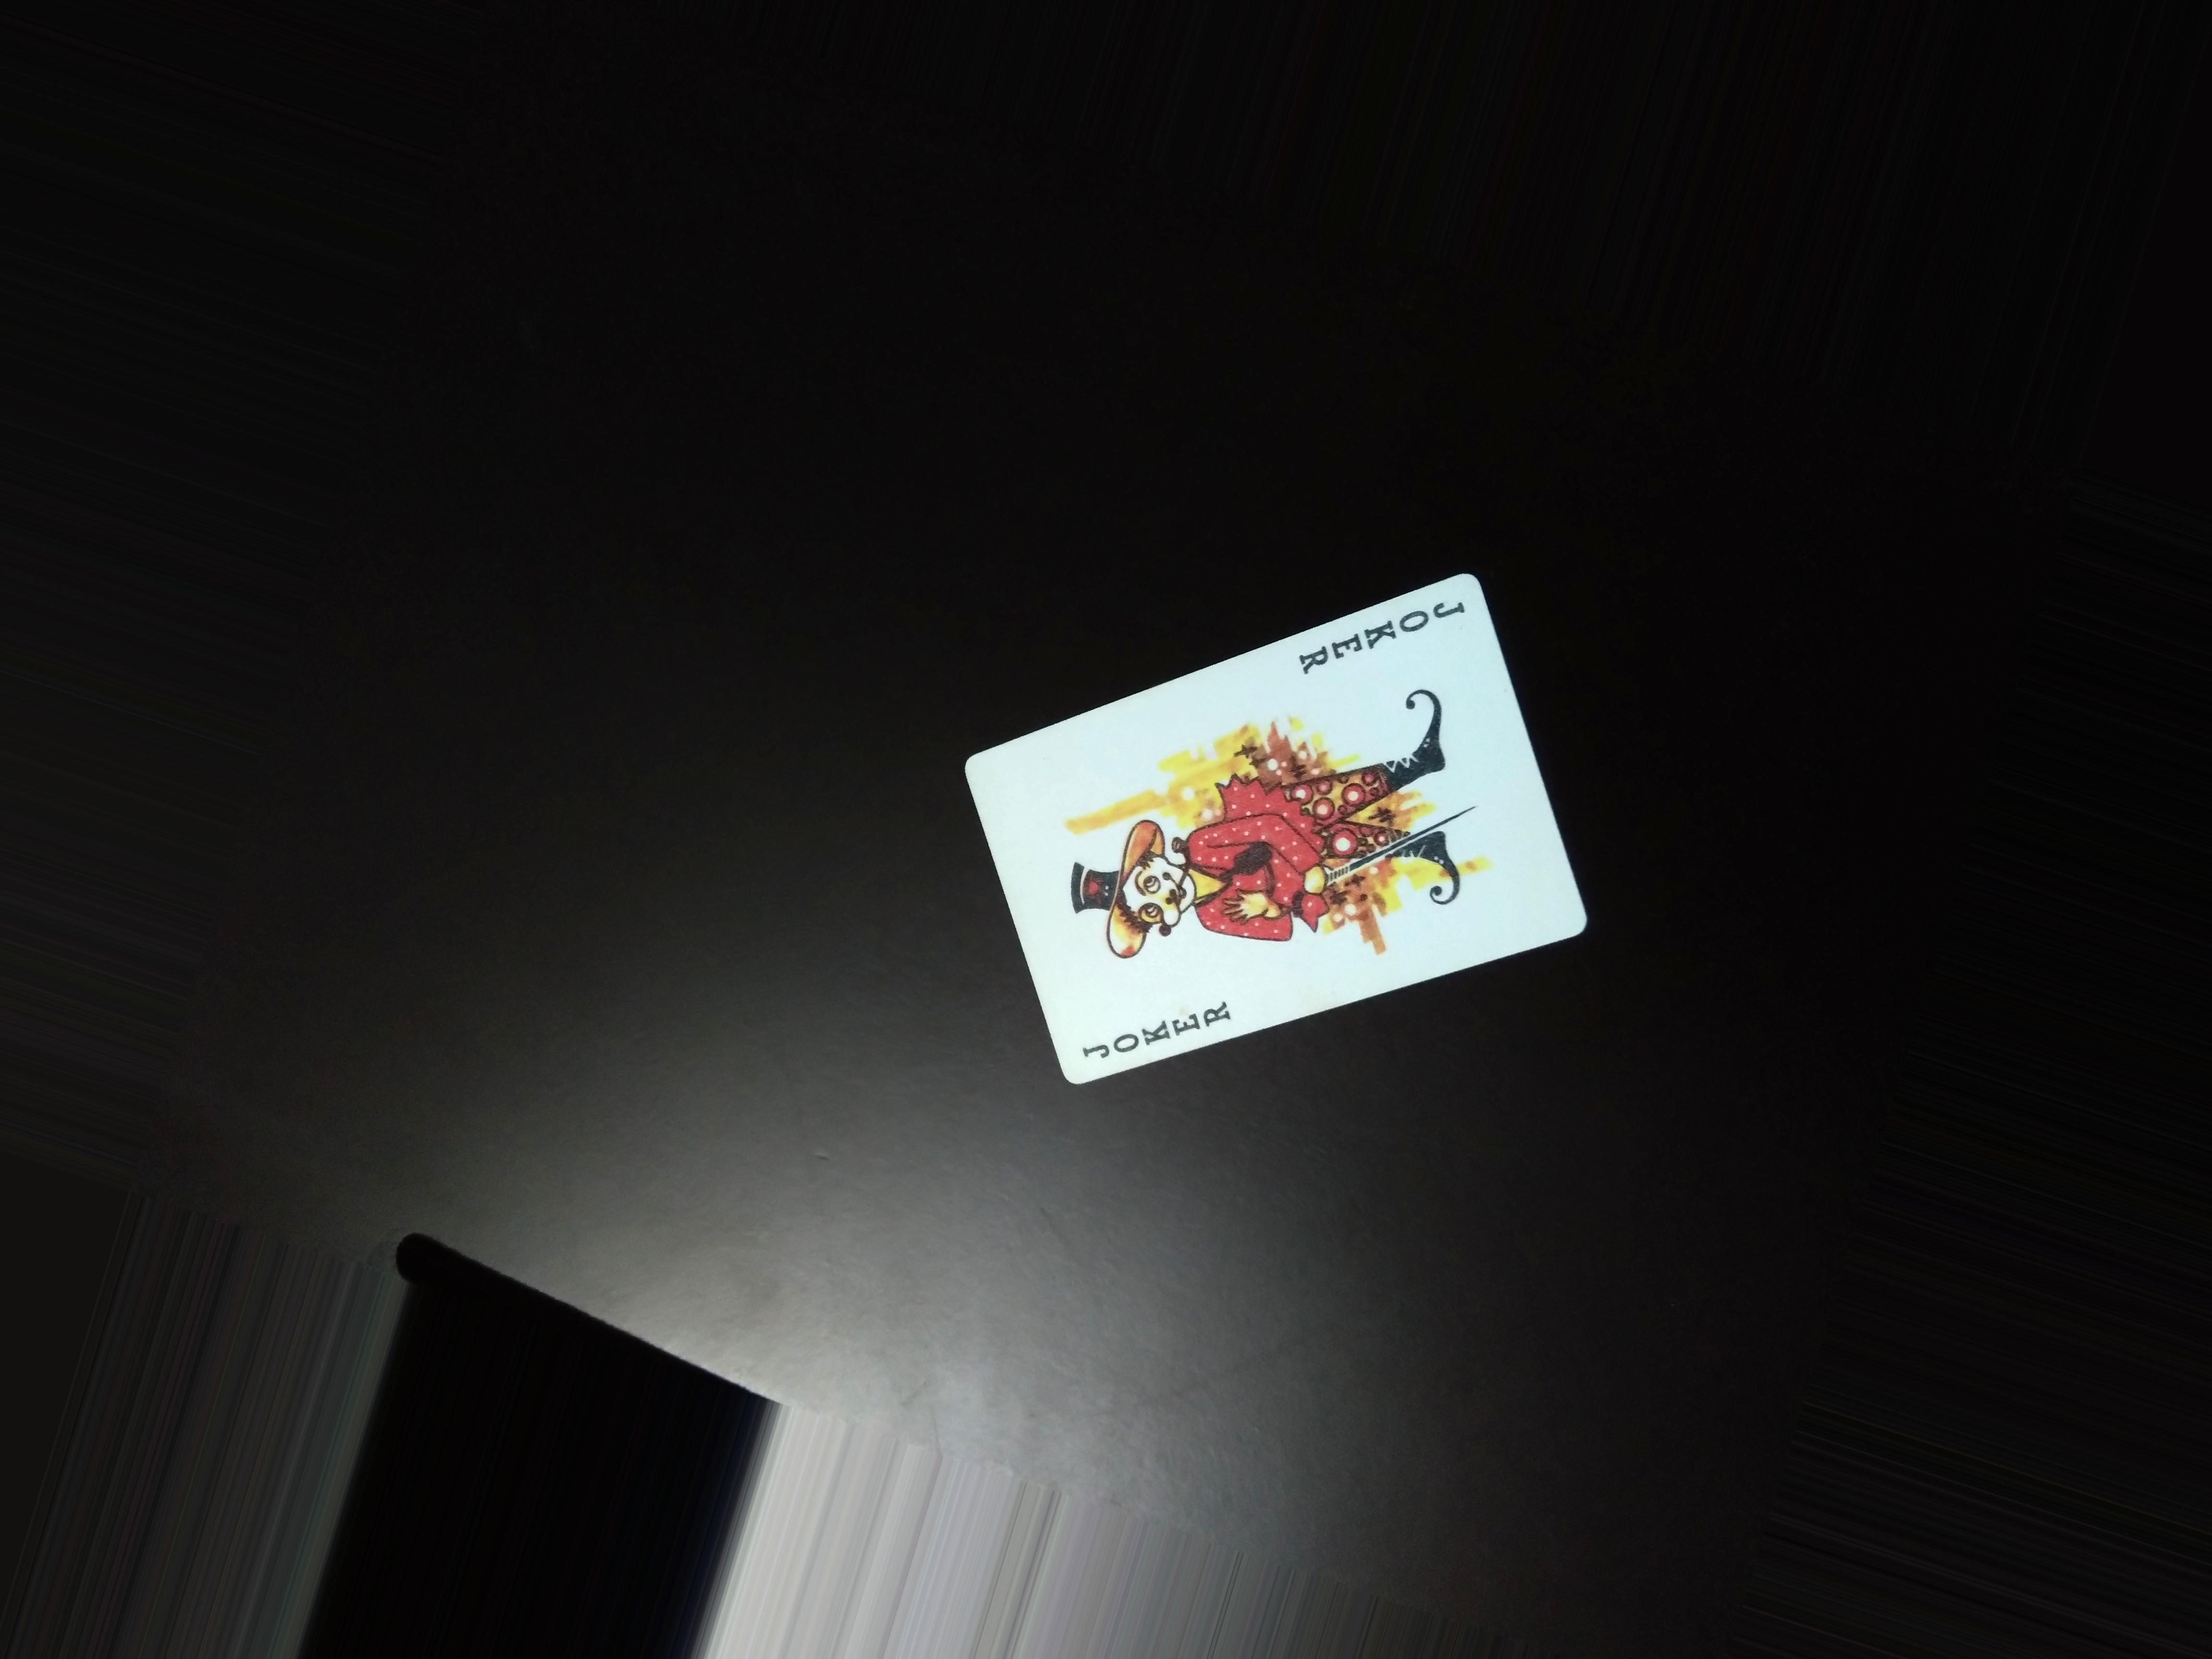JOKER: (1291, 573, 1470, 683)
